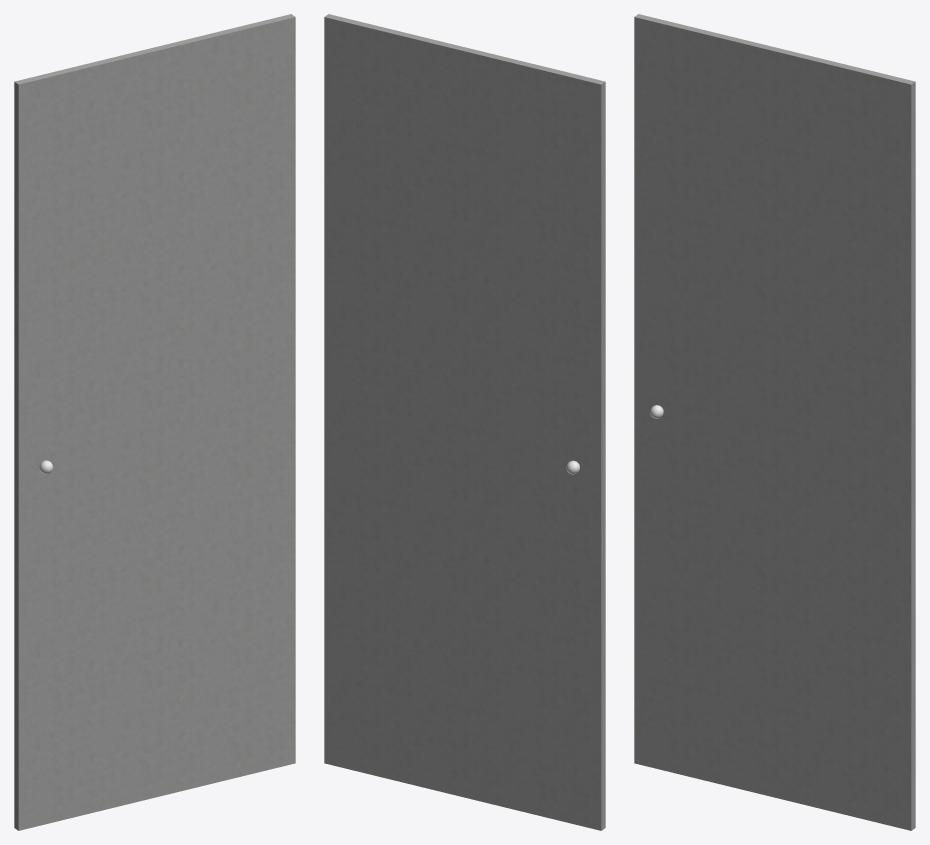
File: porte.gltf
3 renders of one model, left to right at view 1: azimuth 30°, elevation 25°; view 2: azimuth 150°, elevation 25°; view 3: azimuth 330°, elevation 25°, orthographic.
Parts seen in each view (by area): view 1: Sphere; view 2: Sphere; view 3: Sphere.
Boxes of the visible parts, x1,y1,x2,y2 form: Sphere: [14, 14, 295, 830]; Sphere: [324, 14, 605, 830]; Sphere: [634, 14, 915, 830].
Size of the model in its own units: 7.91 by 20.37 by 0.8271.
Materials: 2 (1 with a texture image).
